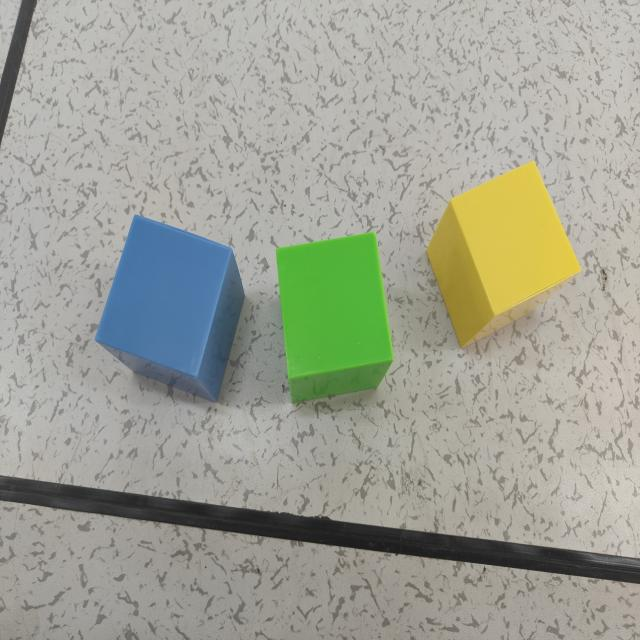blue: (94, 217, 245, 404)
green: (275, 233, 394, 405)
yellow: (426, 162, 583, 349)
